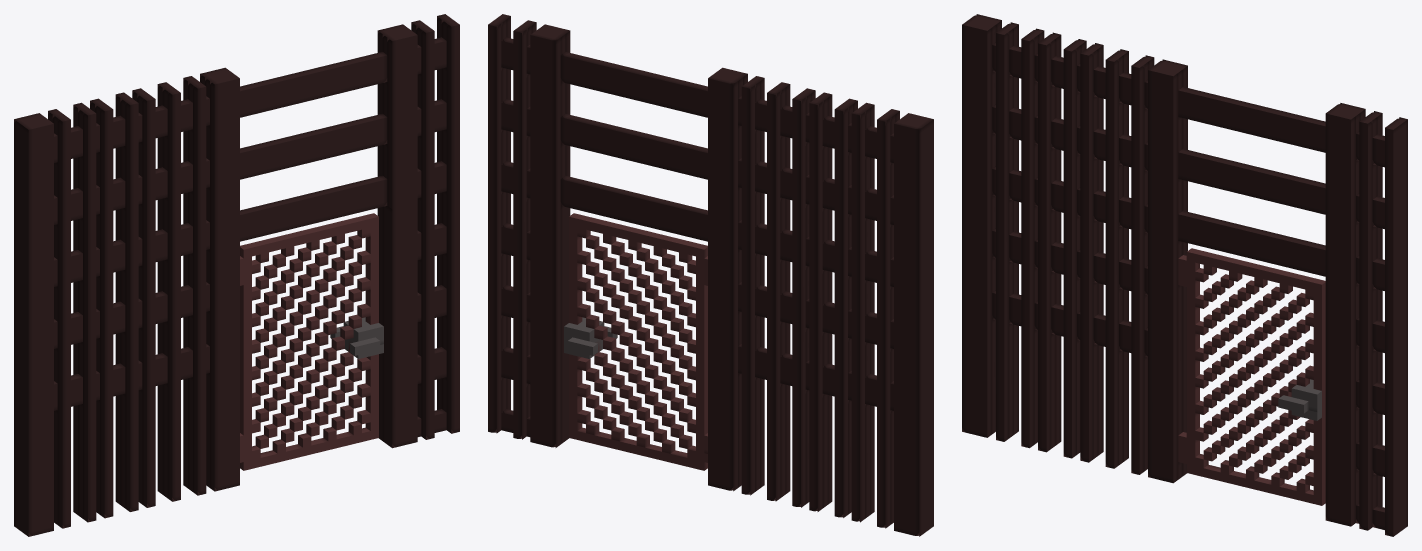
The model's file is p_z_most.dae.
The picture shows the model from 3 angles, left to right: view 1: azimuth 30°, elevation 25°; view 2: azimuth 150°, elevation 25°; view 3: azimuth 330°, elevation 25°; orthographic projection.
Parts seen in each view (by area): view 1: Content; view 2: Content; view 3: Content.
Boxes of the visible parts, left/top/right/bottom form: Content: left=14, top=14, right=459, bottom=536; Content: left=488, top=14, right=933, bottom=536; Content: left=962, top=14, right=1407, bottom=536.
Size of the model in its own units: 51 by 46 by 5.
Materials: 1 (1 with a texture image).
